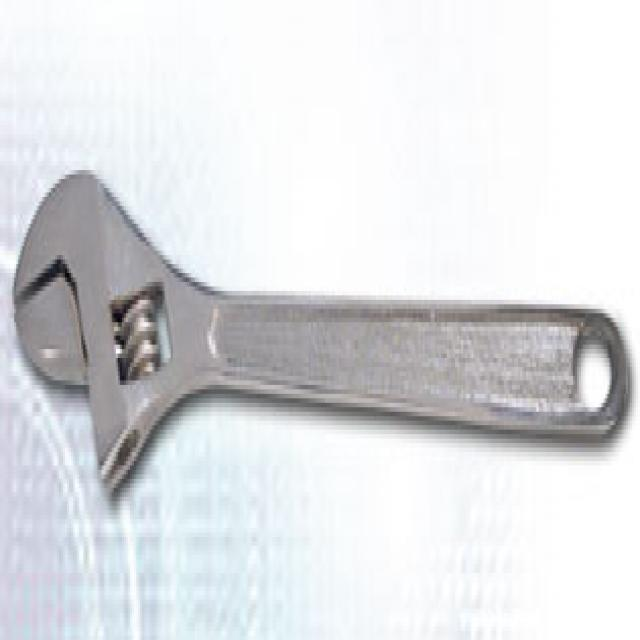wrench: (5, 152, 632, 500)
